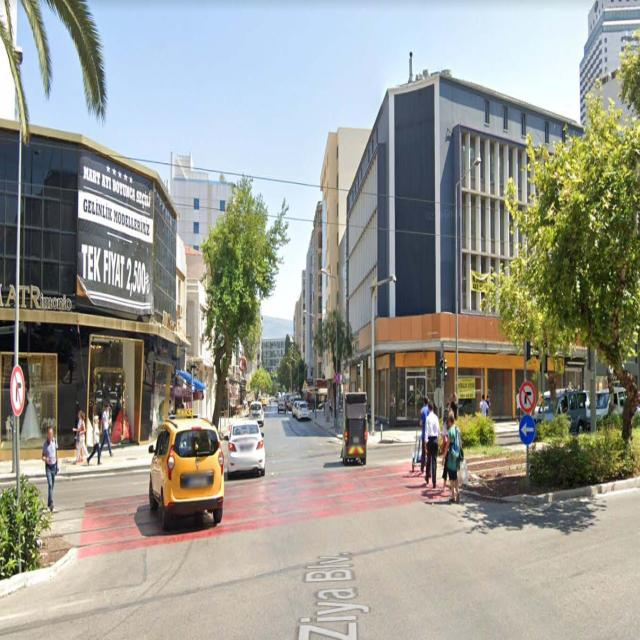sagadonulmez: (10, 364, 24, 416), (520, 383, 536, 412)
sol: (518, 414, 535, 446)
